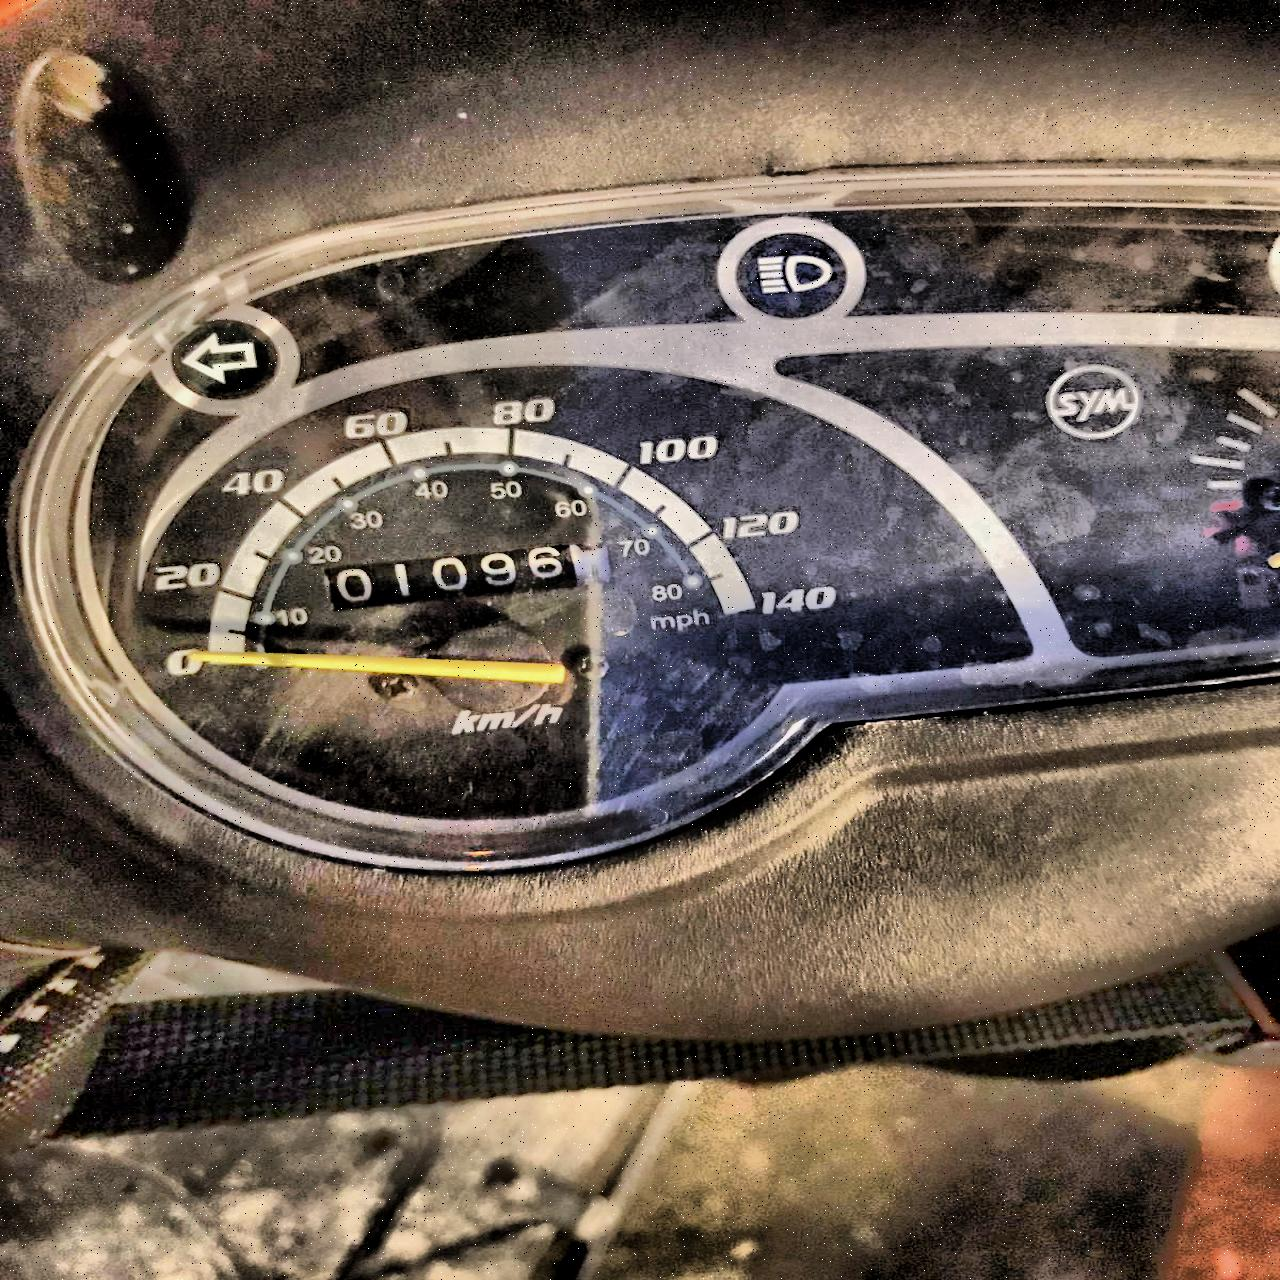0: (331, 566, 376, 604), (429, 556, 471, 592), (324, 543, 341, 563)
1: (387, 557, 418, 599), (580, 558, 610, 600)
6: (526, 543, 567, 587)
9: (478, 549, 518, 590)
odometer: (324, 536, 620, 614)
